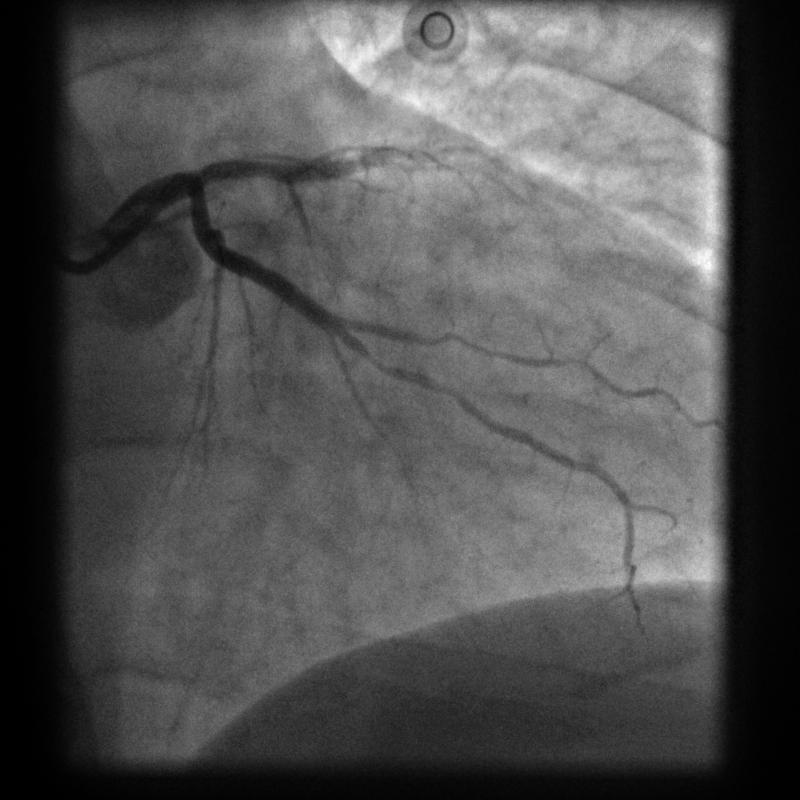Stenosis: (362, 351, 458, 403)
